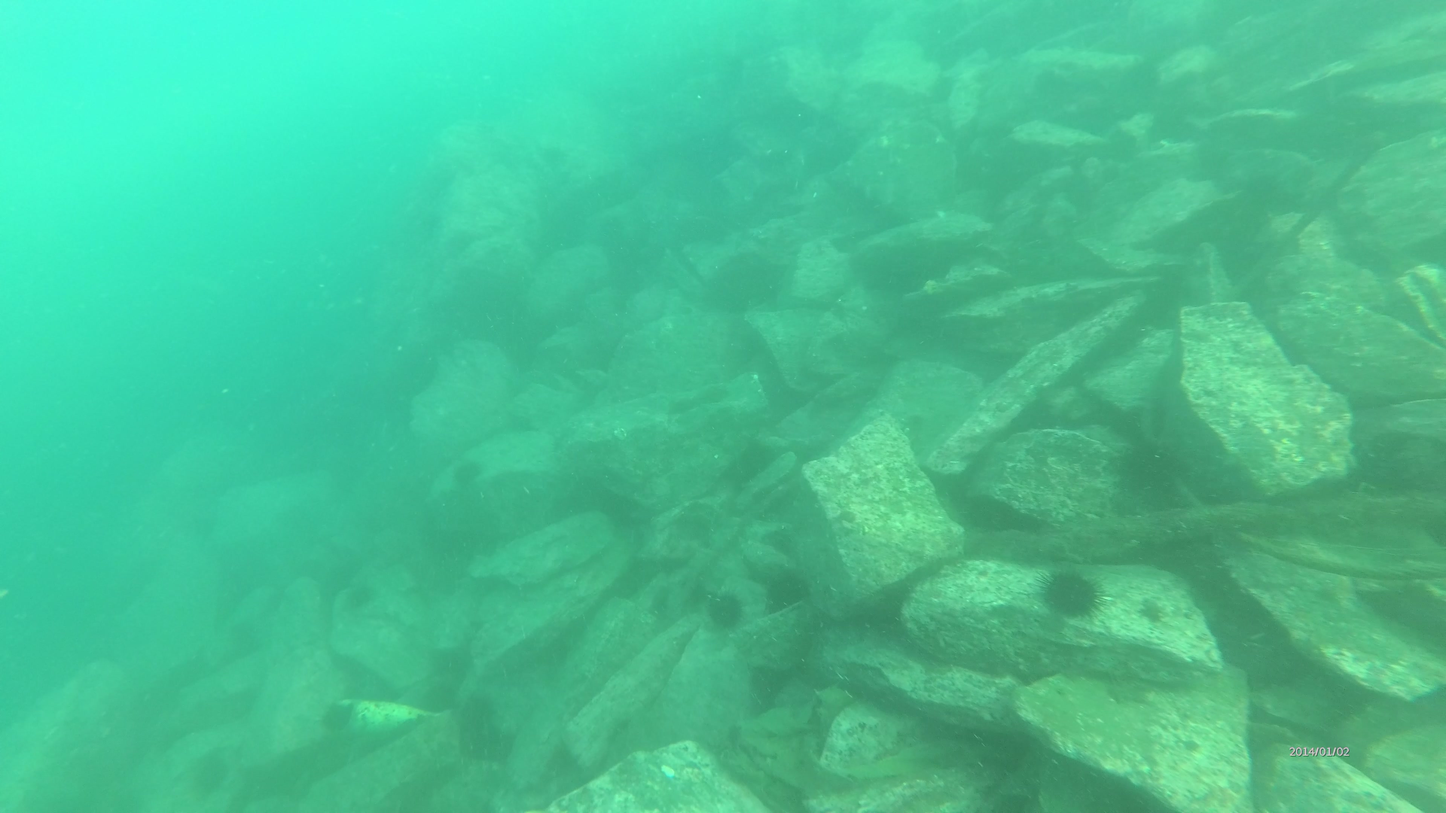starfish: (1033, 559, 1119, 628), (702, 585, 752, 636)
